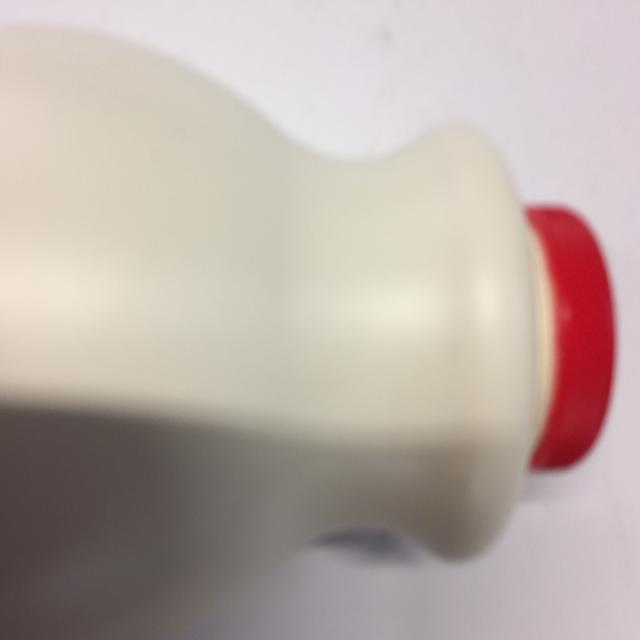plastic: (0, 0, 631, 640)
